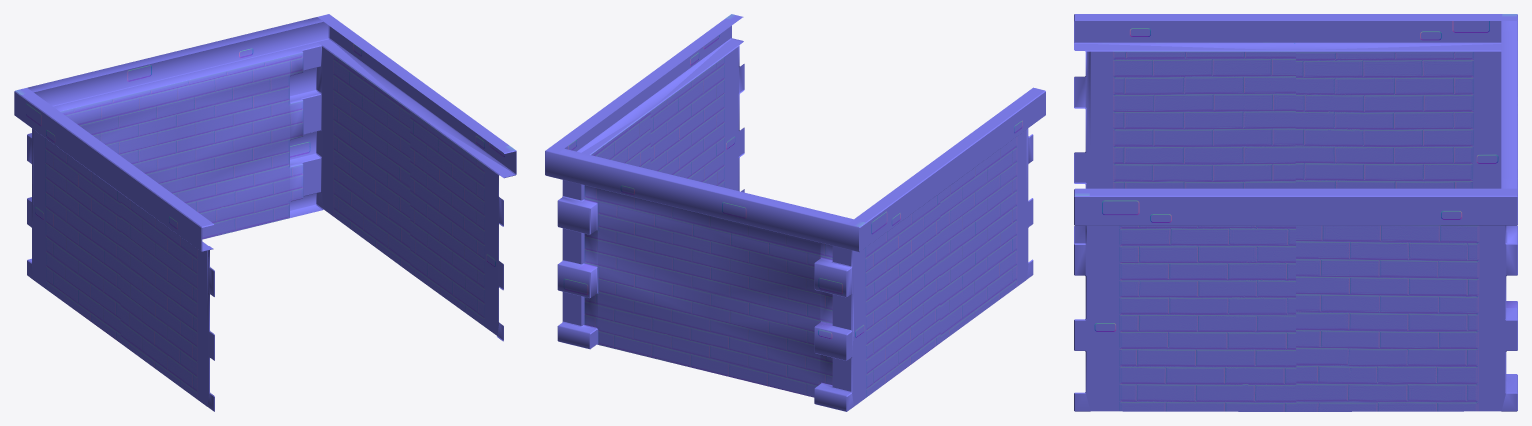
File: wall2.fbx
3 views of the same model, side by side, from view 1: azimuth 30°, elevation 25°; view 2: azimuth 150°, elevation 25°; view 3: azimuth 270°, elevation 25° (orthographic). The views are drawn at different scales.
Parts seen in each view (by area): view 1: HouseWall; view 2: HouseWall; view 3: HouseWall.
Boxes of the visible parts, box(x1,y1,x2,y2) form: HouseWall: box(14, 14, 516, 411); HouseWall: box(545, 14, 1045, 411); HouseWall: box(1074, 14, 1517, 411).
Bounding box in the file's own units: 132 × 75.1 × 135.
